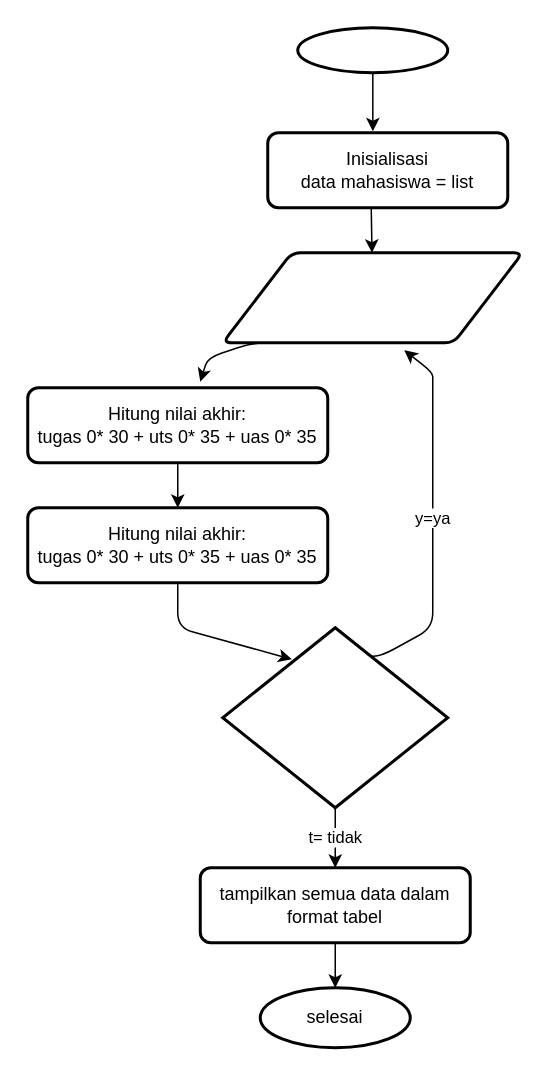
The diagram is 549 pixels wide and 1074 high, and some of its shapes have lost their labels. Here are the shapes that lost their labels. From the top down, the centre of each, then its label:
the point at 372,50: MULAI
the point at 372,297: Input: Nama, NIM, Tugas, UTS, UAS
the point at 334,717: tambah data lagi? y/t
